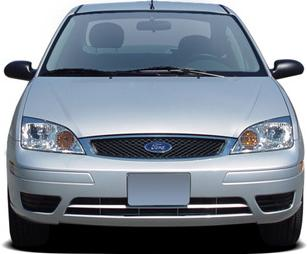front_view: (21, 110, 304, 239)
headlight: (233, 114, 303, 179)
